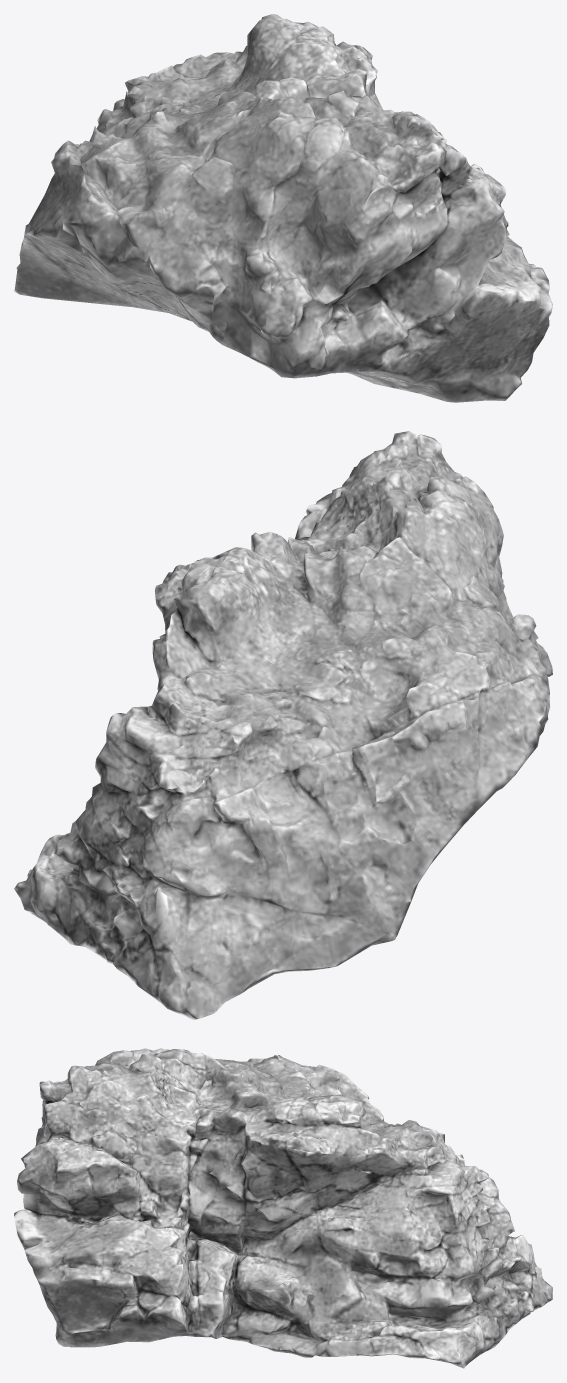
File: boulder-quarried-fractured-lod0.glb
3 renders of one model, top to bottom at view 1: azimuth 30°, elevation 25°; view 2: azimuth 150°, elevation 25°; view 3: azimuth 270°, elevation 25°, orthographic. The views are drawn at different scales.
Visible parts, largest first — view 1: boulder_01; view 2: boulder_01; view 3: boulder_01.
Part boxes in pixels (left/top/right/bottom): boulder_01: left=14, top=14, right=552, bottom=402; boulder_01: left=14, top=431, right=552, bottom=1019; boulder_01: left=14, top=1048, right=552, bottom=1368.
Bounding box in the file's own units: 1.27 × 1 × 1.82.
Materials: 1 (1 with a texture image).
